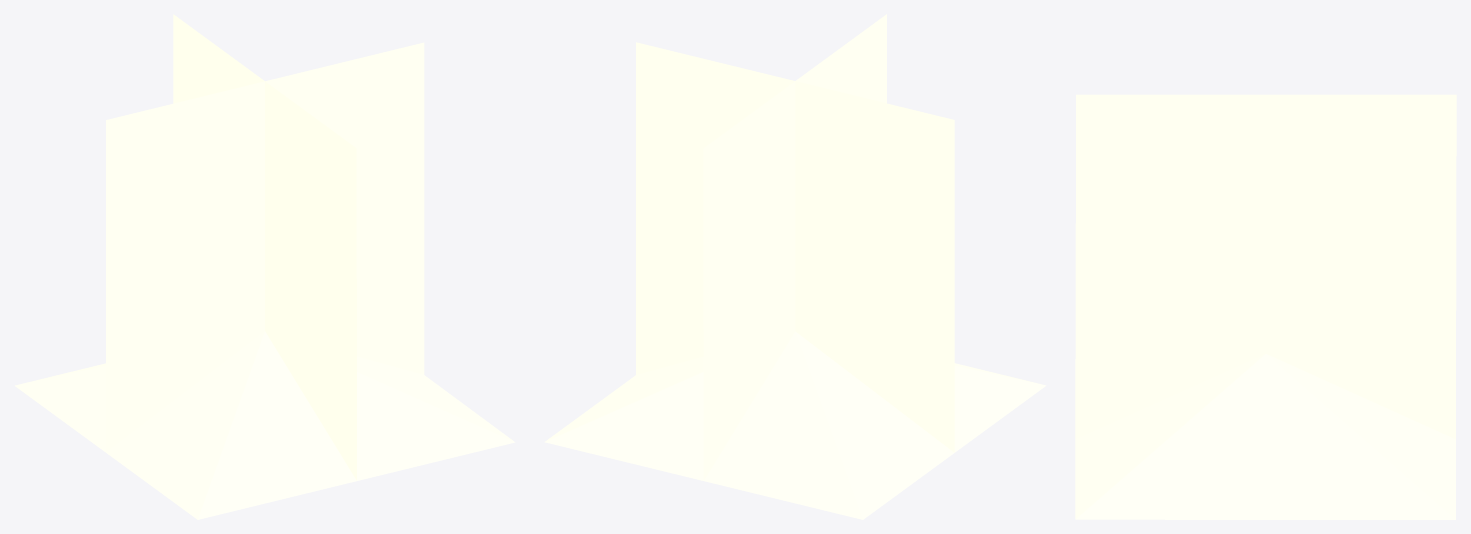
File: boost_orange.glb
3 views of the same model, side by side, from view 1: azimuth 30°, elevation 25°; view 2: azimuth 150°, elevation 25°; view 3: azimuth 270°, elevation 25° (orthographic). The views are drawn at different scales.
Visible parts, largest first — view 1: group_17; view 2: group_17; view 3: group_17.
Part boxes in pixels (x1,y1,x2,y2): group_17: (15, 14, 515, 519); group_17: (544, 14, 1046, 519); group_17: (1075, 94, 1456, 519).
Size of the model in its own units: 512 by 511 by 512.
Materials: 1 (1 with a texture image).
